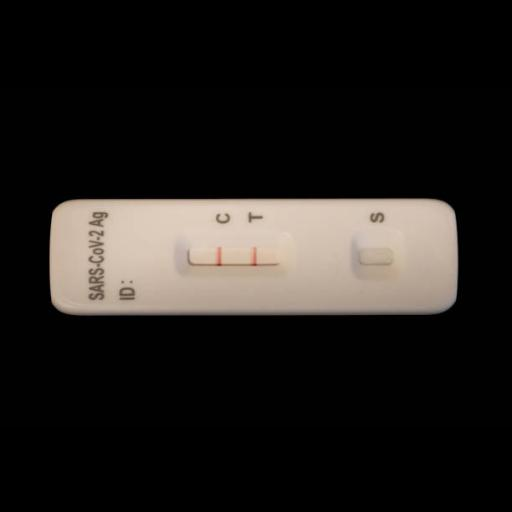Pos: (50, 196, 458, 312)
